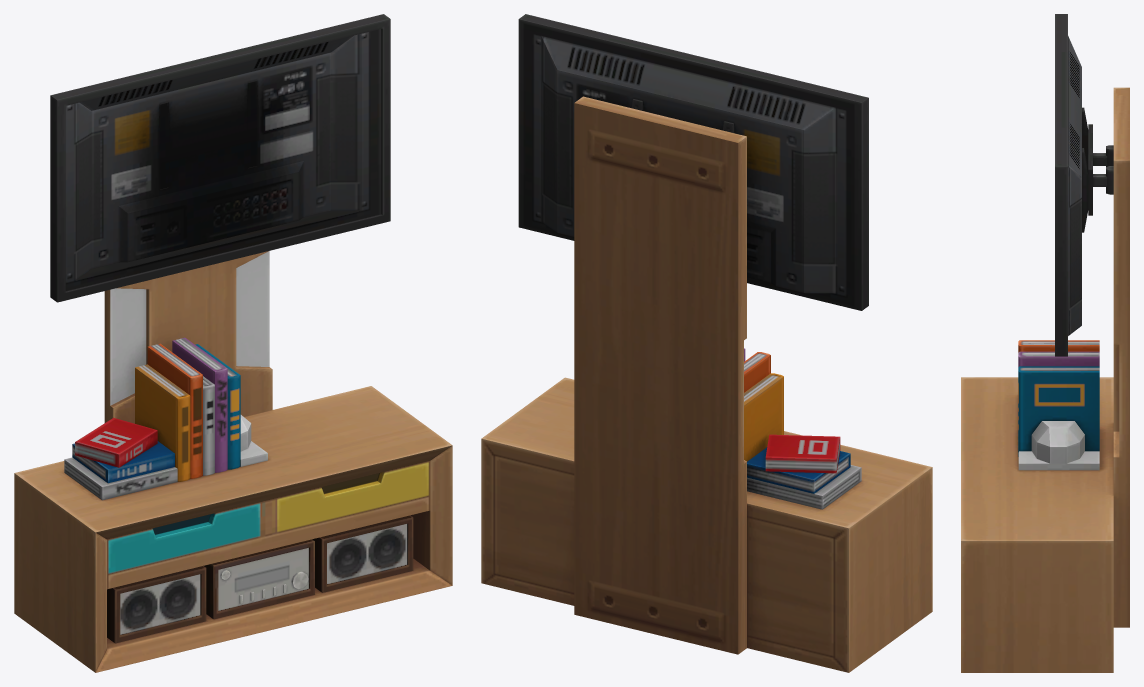
Rendered from MediaMarathoner_AllontheWall.fbx.
3 views of the same model, side by side, from view 1: azimuth 30°, elevation 25°; view 2: azimuth 150°, elevation 25°; view 3: azimuth 270°, elevation 25° (orthographic). The views are drawn at different scales.
Visible parts, largest first — view 1: TinyLiving_MediaMarathoner_AllontheWall; view 2: TinyLiving_MediaMarathoner_AllontheWall; view 3: TinyLiving_MediaMarathoner_AllontheWall.
Part boxes in pixels (<box>): TinyLiving_MediaMarathoner_AllontheWall: <box>14,14,452,672</box>; TinyLiving_MediaMarathoner_AllontheWall: <box>481,14,932,672</box>; TinyLiving_MediaMarathoner_AllontheWall: <box>961,14,1129,672</box>.
Bounding box in the file's own units: 84.12 × 120 × 36.7.
